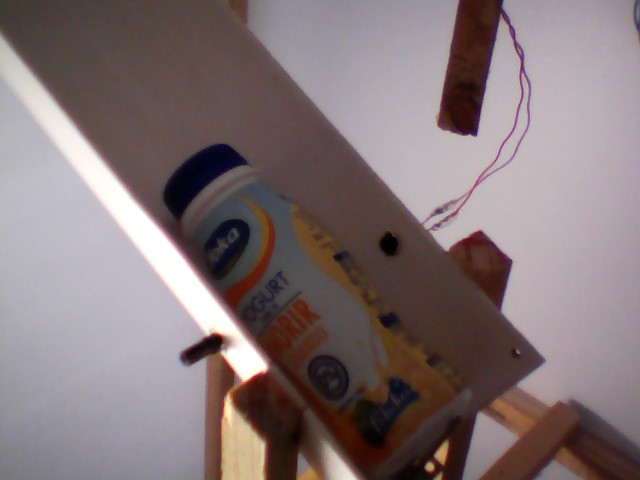plastico: (154, 140, 483, 480)
